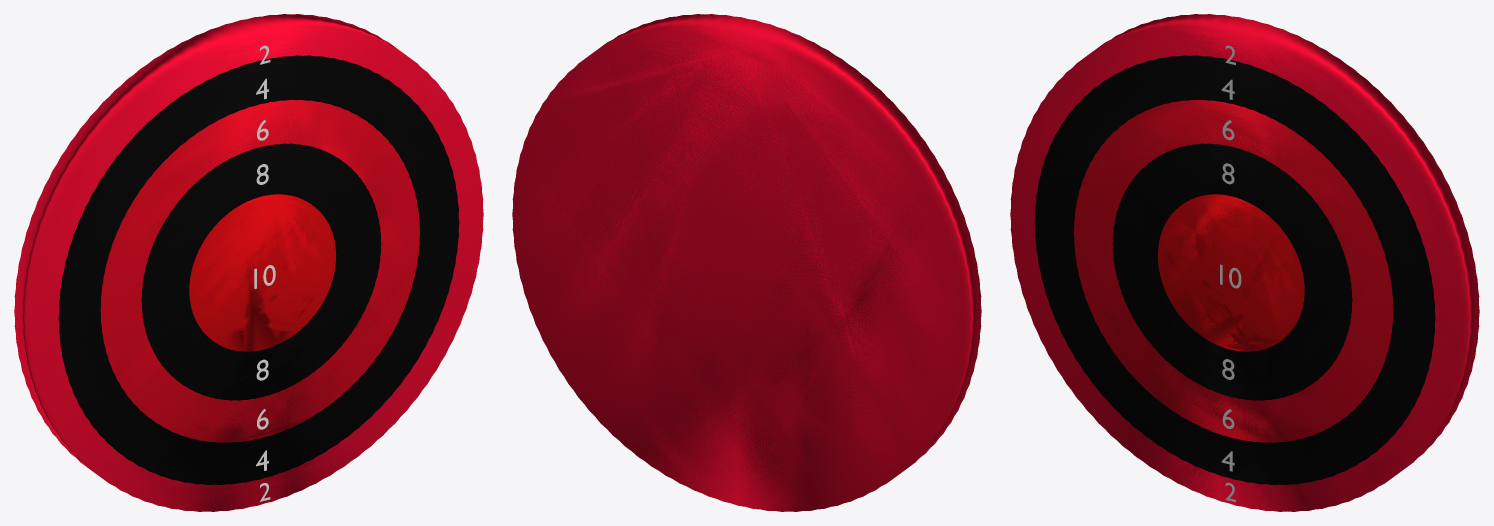
File: BoardStandIllama.fbx
3 renders of one model, left to right at view 1: azimuth 30°, elevation 25°; view 2: azimuth 150°, elevation 25°; view 3: azimuth 330°, elevation 25°, orthographic.
Visible parts, largest first — view 1: Cube.001; view 2: Cube.001; view 3: Cube.001.
Part boxes in pixels (x1,y1,x2,y2): Cube.001: [14, 14, 483, 511]; Cube.001: [512, 14, 981, 511]; Cube.001: [1010, 14, 1479, 511].
Bounding box in the file's own units: 1612 × 1612 × 149.
